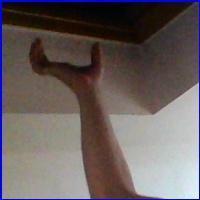space: (23, 34, 112, 89)
